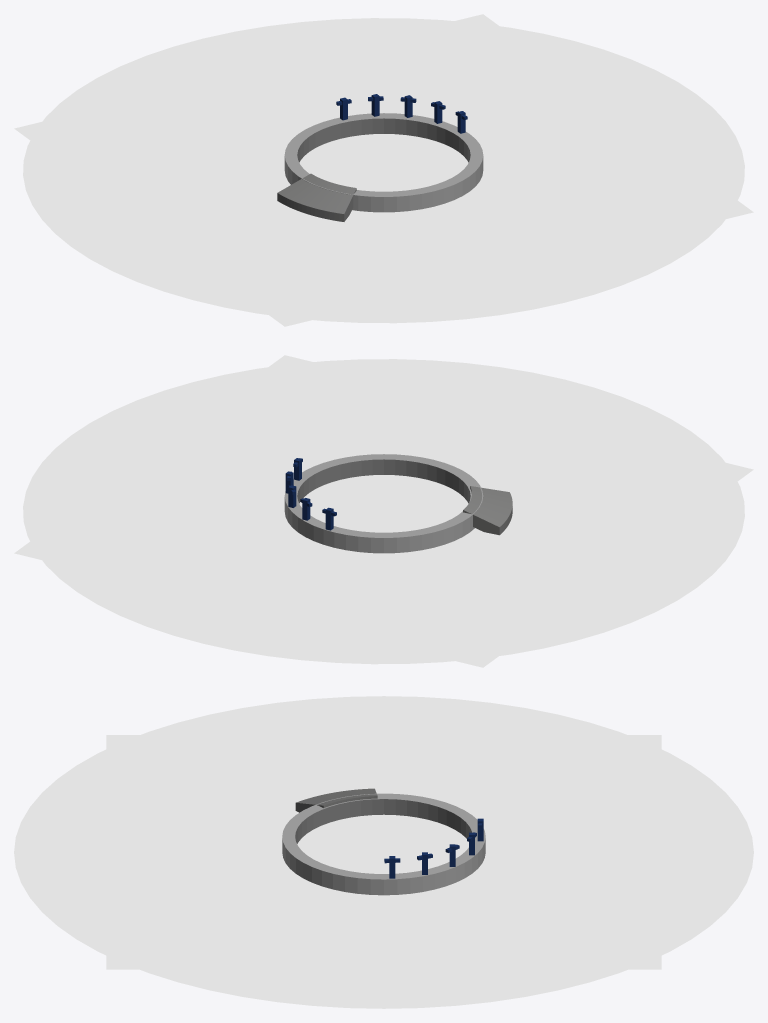
The model's file is rotonde.glb.
3 renders of one model, top to bottom at view 1: azimuth 30°, elevation 25°; view 2: azimuth 150°, elevation 25°; view 3: azimuth 270°, elevation 25°, orthographic. The views are drawn at different scales.
Visible parts, largest first — view 1: pasto, suelo, rotonde; view 2: pasto, suelo, rotonde; view 3: pasto, suelo, rotonde.
Boxes of the visible parts, x1,y1,x2,y2 form: pasto: (14, 14, 753, 326); suelo: (23, 18, 744, 323); rotonde: (277, 94, 483, 221); pasto: (14, 355, 753, 667); suelo: (23, 359, 744, 664); rotonde: (284, 454, 512, 553); pasto: (106, 735, 661, 969); suelo: (14, 696, 753, 1008); rotonde: (282, 788, 485, 895).
Size of the model in its own units: 16 by 1.71 by 16.
Materials: 10 (1 with a texture image).
